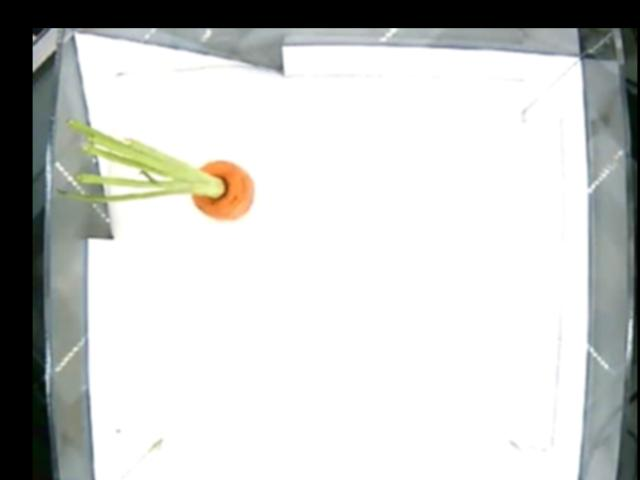Carrot: (131, 147, 256, 219)
